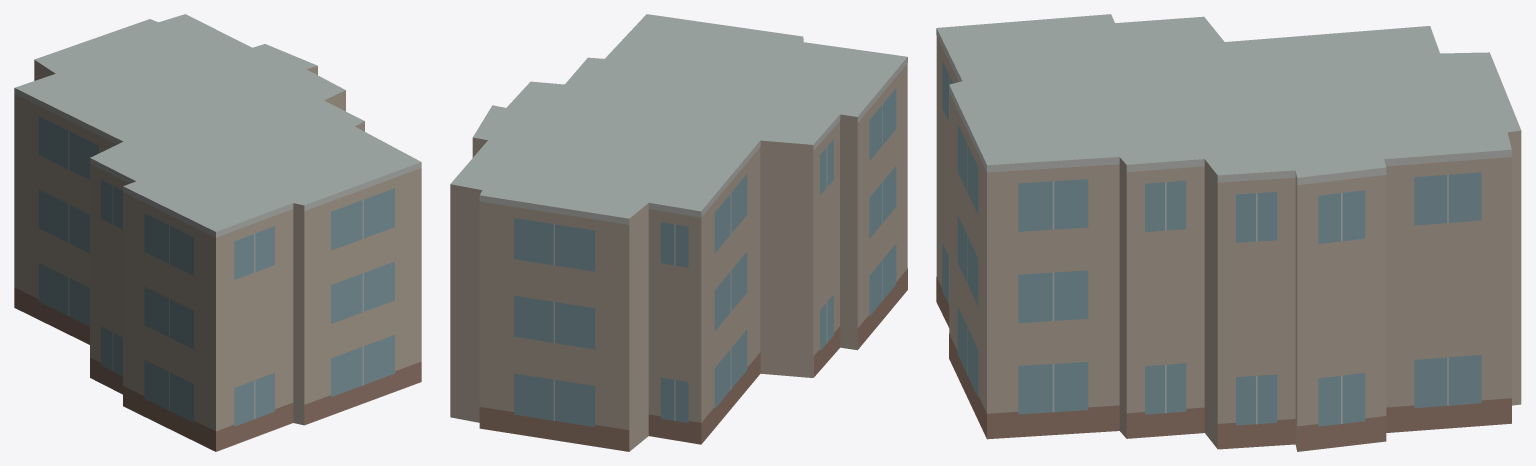
The model's file is survey-upis-32674593.glb.
3 views of the same model, side by side, from view 1: azimuth 30°, elevation 25°; view 2: azimuth 150°, elevation 25°; view 3: azimuth 270°, elevation 25° (orthographic). The views are drawn at different scales.
Parts seen in each view (by area): view 1: survey-upis-32674593.tmp; view 2: survey-upis-32674593.tmp; view 3: survey-upis-32674593.tmp.
Part boxes in pixels (left/top/right/bottom): survey-upis-32674593.tmp: left=14, top=14, right=421, bottom=451; survey-upis-32674593.tmp: left=450, top=14, right=907, bottom=451; survey-upis-32674593.tmp: left=936, top=14, right=1521, bottom=451.
Size of the model in its own units: 11.75 by 9.15 by 17.72.
